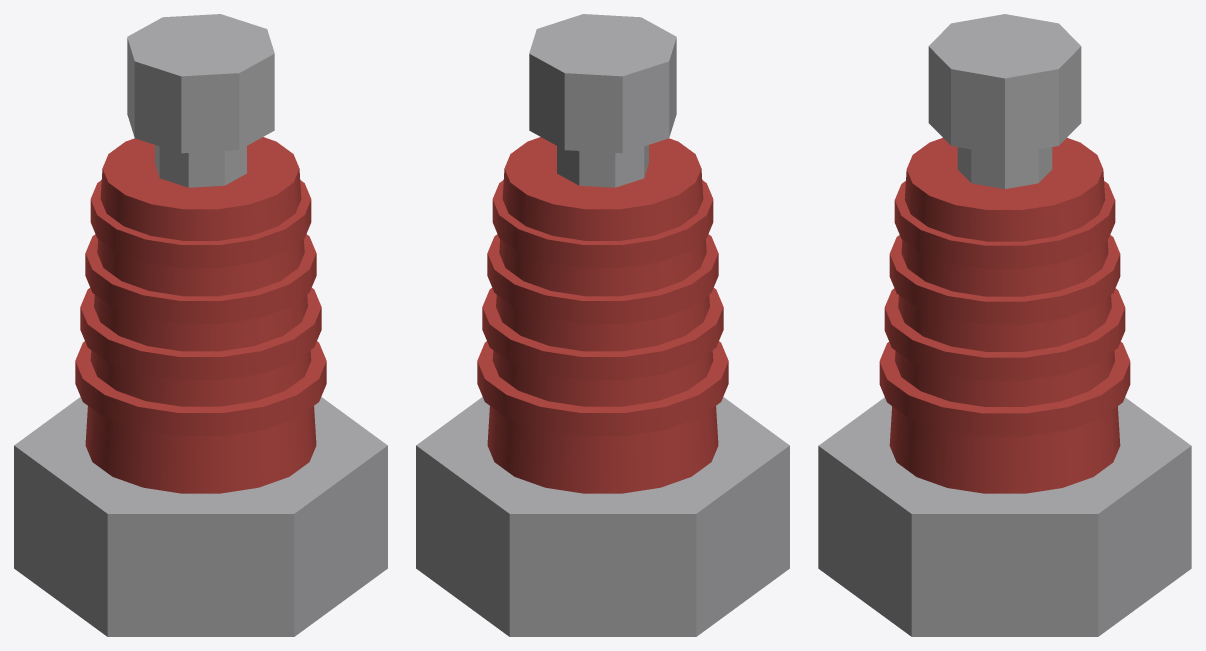
The model's file is plug.glb.
3 renders of one model, left to right at view 1: azimuth 30°, elevation 25°; view 2: azimuth 150°, elevation 25°; view 3: azimuth 270°, elevation 25°, orthographic.
Visible parts, largest first — view 1: lod0; view 2: lod0; view 3: lod0.
Part boxes in pixels (box(x1,y1,x2,y2)): lod0: box(14, 14, 387, 636); lod0: box(416, 14, 789, 636); lod0: box(818, 14, 1191, 636).
Size of what is drawn, in the model's own units: 0.0191 by 0.034 by 0.022.
